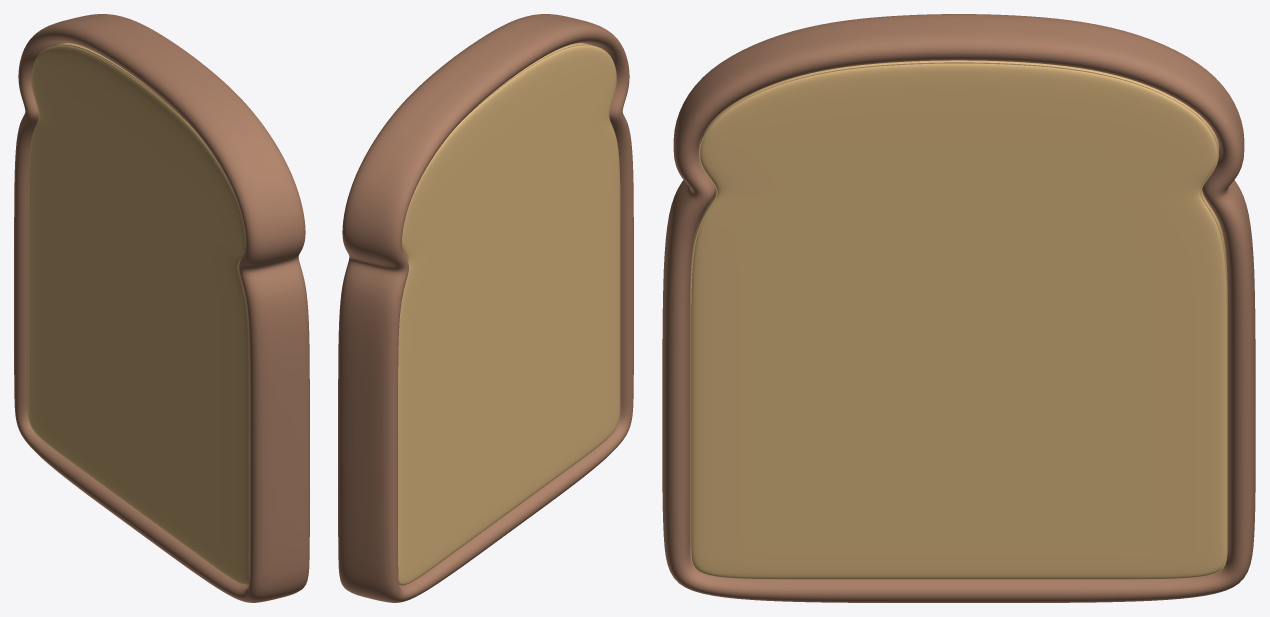
Rendered from bread.fbx.
3 views of the same model, side by side, from view 1: azimuth 30°, elevation 25°; view 2: azimuth 150°, elevation 25°; view 3: azimuth 270°, elevation 25° (orthographic). The views are drawn at different scales.
Visible parts, largest first — view 1: Plane, Plane.001, Plane.003; view 2: Plane, Plane.001, Plane.003; view 3: Plane, Plane.001, Plane.002.
Boxes of the visible parts, x1,y1,x2,y2 form: Plane: (28, 42, 249, 585); Plane.001: (14, 14, 309, 602); Plane.003: (27, 44, 248, 585); Plane: (398, 42, 619, 585); Plane.001: (338, 14, 633, 602); Plane.003: (399, 44, 620, 585); Plane: (690, 60, 1227, 579); Plane.001: (662, 14, 1255, 602); Plane.002: (690, 62, 1227, 579).
Size of the model in its own units: 43.9 by 345 by 327.
